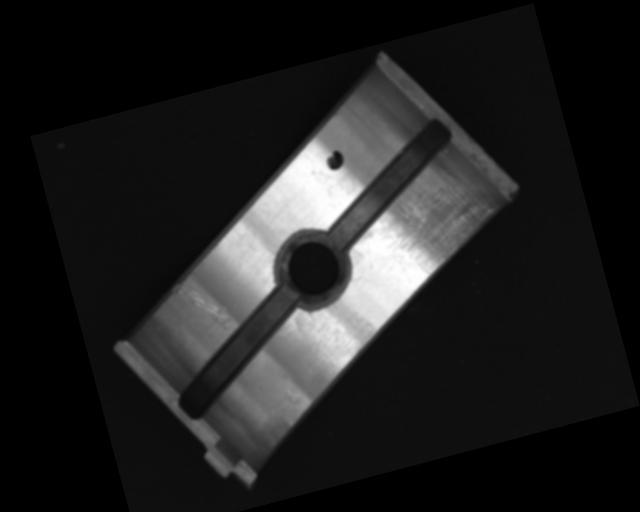blot: (323, 148, 347, 171)
bruise: (283, 383, 305, 407)
gap: (155, 284, 320, 423), (309, 118, 472, 250)
hole: (266, 223, 358, 316)
nick: (171, 271, 234, 341)
scratch: (350, 151, 512, 293)
